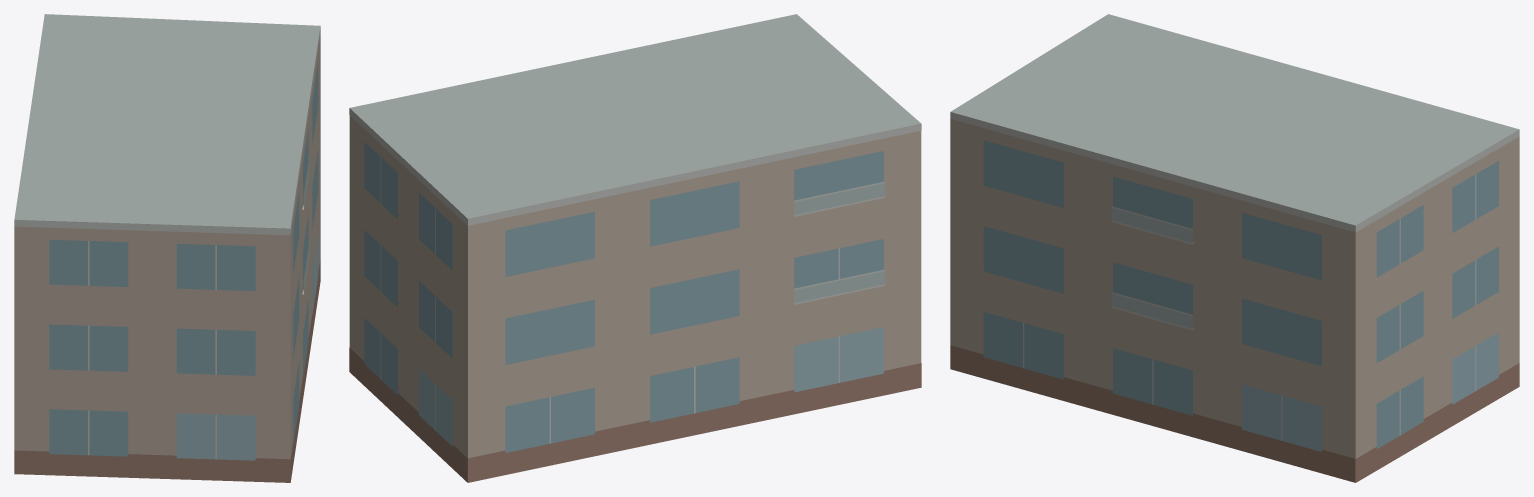
The model's file is survey-upis-32994946.glb.
3 renders of one model, left to right at view 1: azimuth 30°, elevation 25°; view 2: azimuth 150°, elevation 25°; view 3: azimuth 270°, elevation 25°, orthographic. The views are drawn at different scales.
Parts seen in each view (by area): view 1: survey-upis-32994946.tmp; view 2: survey-upis-32994946.tmp; view 3: survey-upis-32994946.tmp.
Part boxes in pixels (bbox=[...]): survey-upis-32994946.tmp: bbox=[14, 14, 320, 482]; survey-upis-32994946.tmp: bbox=[349, 14, 921, 482]; survey-upis-32994946.tmp: bbox=[950, 14, 1519, 482].
Bounding box in the file's own units: 16.15 × 9.15 × 18.36.
